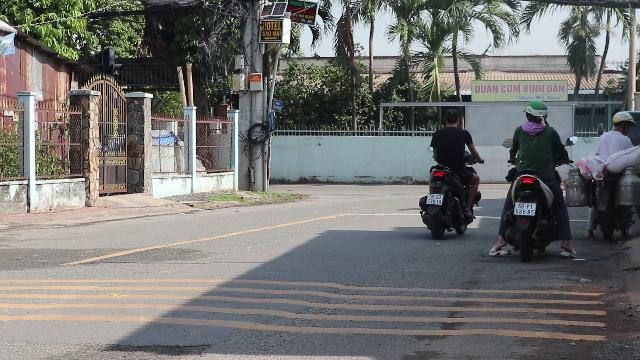helmet: (524, 99, 548, 123), (612, 110, 634, 134)
licenseplate: (514, 201, 536, 214), (427, 194, 443, 204)
motorcyclist: (495, 99, 573, 260), (418, 108, 482, 238), (588, 110, 640, 240)
nohelmet: (442, 108, 461, 126)
